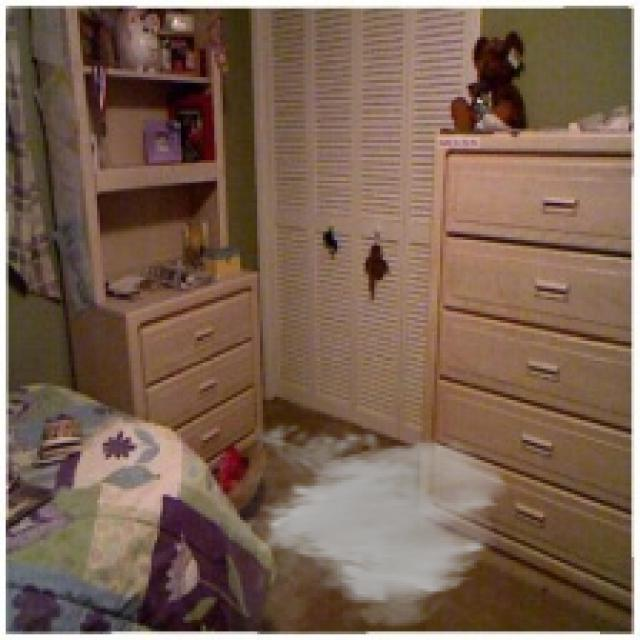Smoke: (228, 417, 512, 634)
